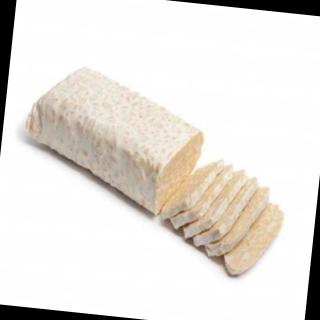Tempe: (10, 60, 300, 280)
